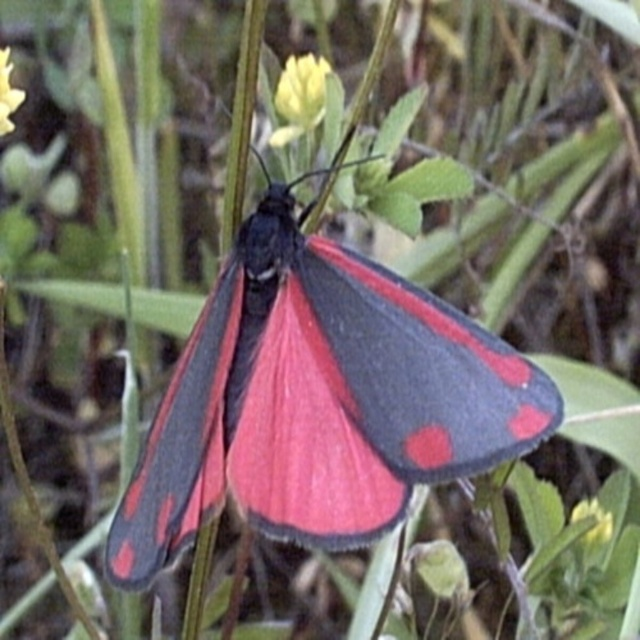Butterfly: (102, 138, 564, 602)
